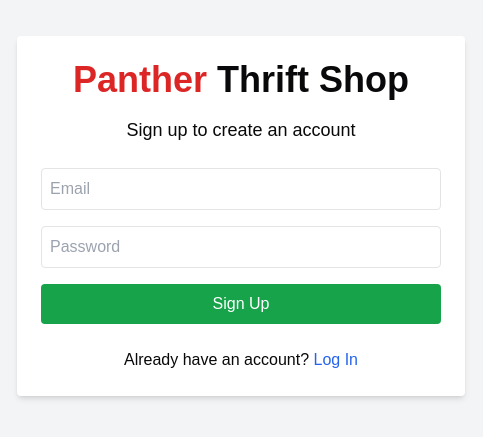
SignUp Component › handles 'Email ID already registered.' error
// Simulate user input
Type "test@hanover.edu" into the field with placeholder "Email" at (241, 189), box [41, 168, 441, 210]
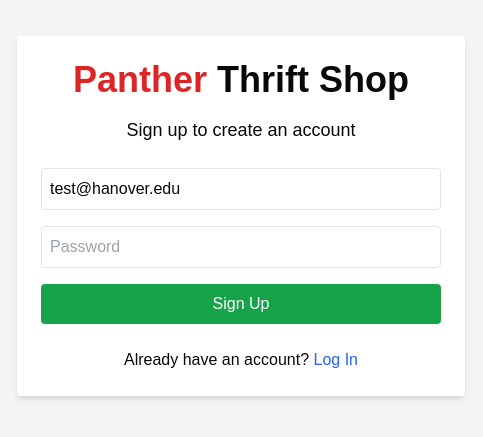
Type "password123" into the password field with placeholder "Password" at (241, 247), box [41, 226, 441, 268]
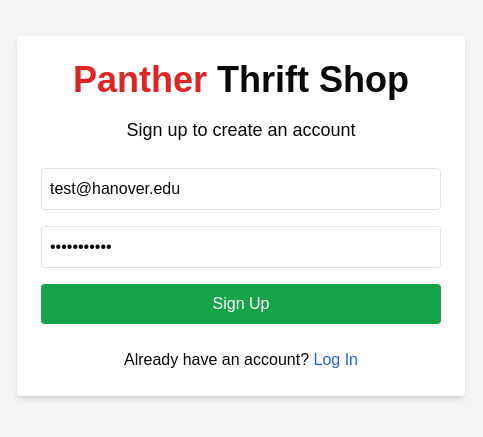
Click the button "Sign Up" at (241, 304), box [41, 284, 441, 324]
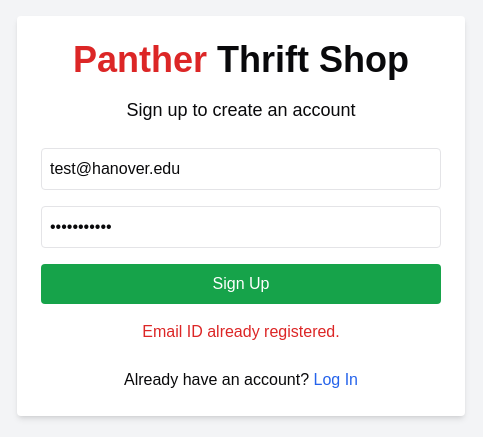
Expected: the text "Email ID already registered." is shown, [142, 323, 340, 340]
